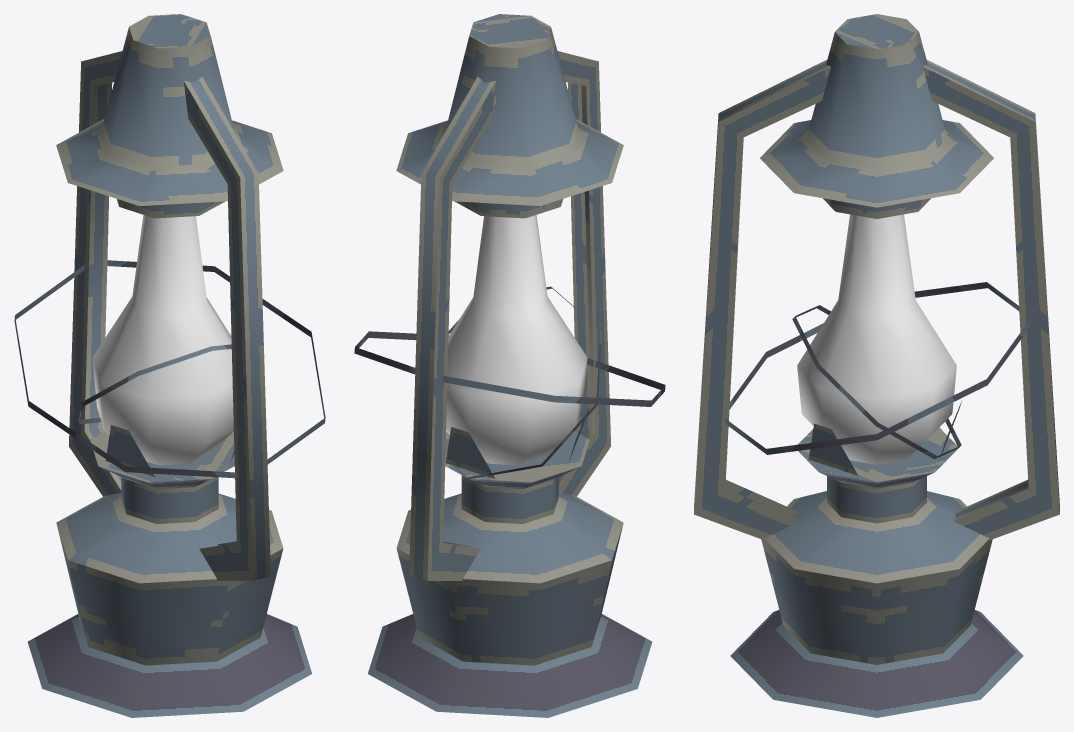
The model's file is lamp_0.glb.
3 views of the same model, side by side, from view 1: azimuth 30°, elevation 25°; view 2: azimuth 150°, elevation 25°; view 3: azimuth 270°, elevation 25° (orthographic).
Visible parts, largest first — view 1: lamp01.metal, lamp01.glass; view 2: lamp01.metal, lamp01.glass; view 3: lamp01.metal, lamp01.glass.
Part boxes in pixels (box(x1,y1,x2,y2)): lamp01.metal: box(14, 14, 325, 717); lamp01.glass: box(92, 215, 233, 465); lamp01.metal: box(354, 14, 665, 717); lamp01.glass: box(446, 215, 587, 465); lamp01.metal: box(694, 14, 1059, 717); lamp01.glass: box(797, 214, 956, 464).
Bounding box in the file's own units: 0.2752 × 0.5829 × 0.3098.
Materials: 3 (1 with a texture image).
